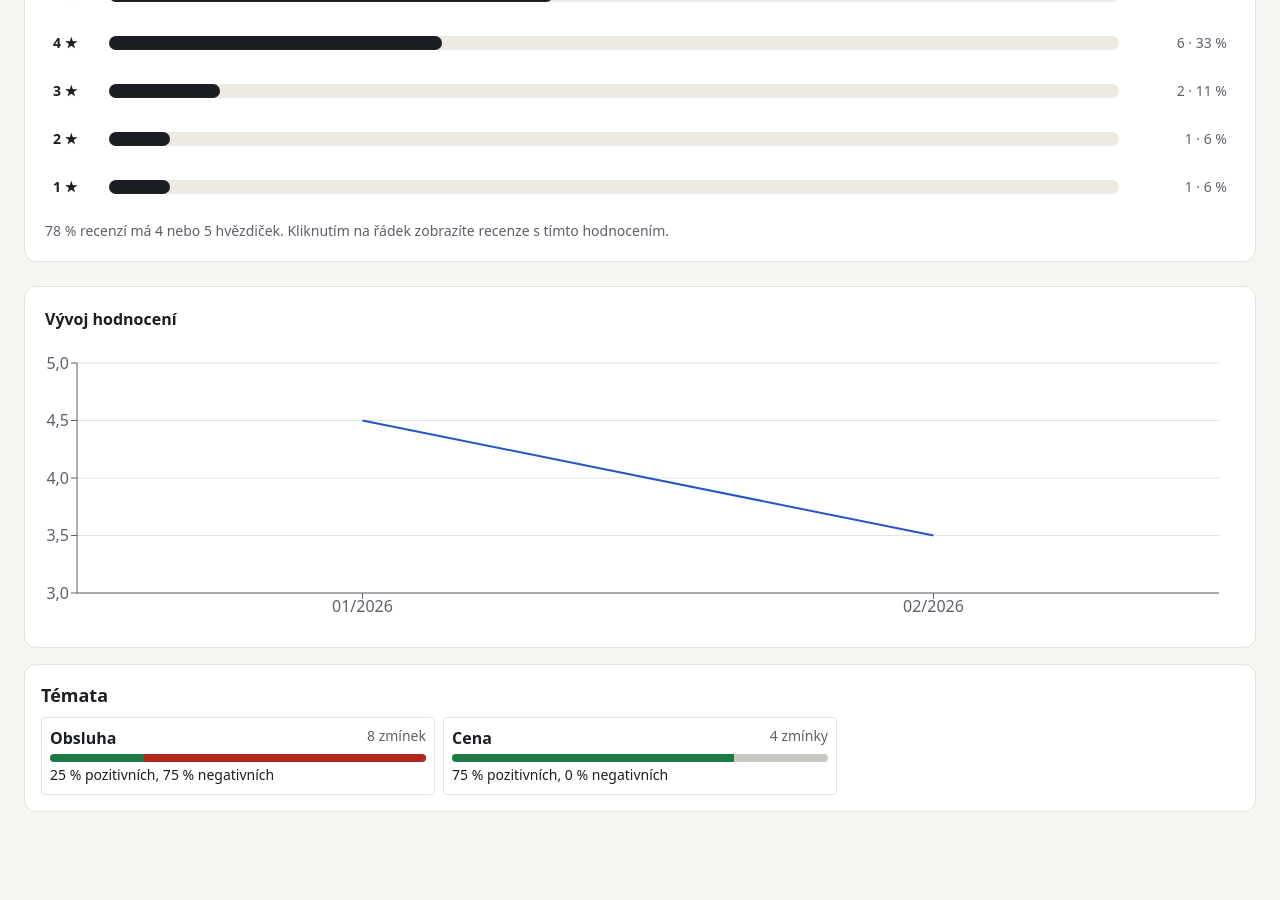
Scenario: Topics › says so when the Reviews cannot be loaded or there are none
(page scrolled)
Click the button "Obsluha 8 zmínek 25 % pozitivních, 75 % negativních": [238, 756] box [41, 717, 435, 795]
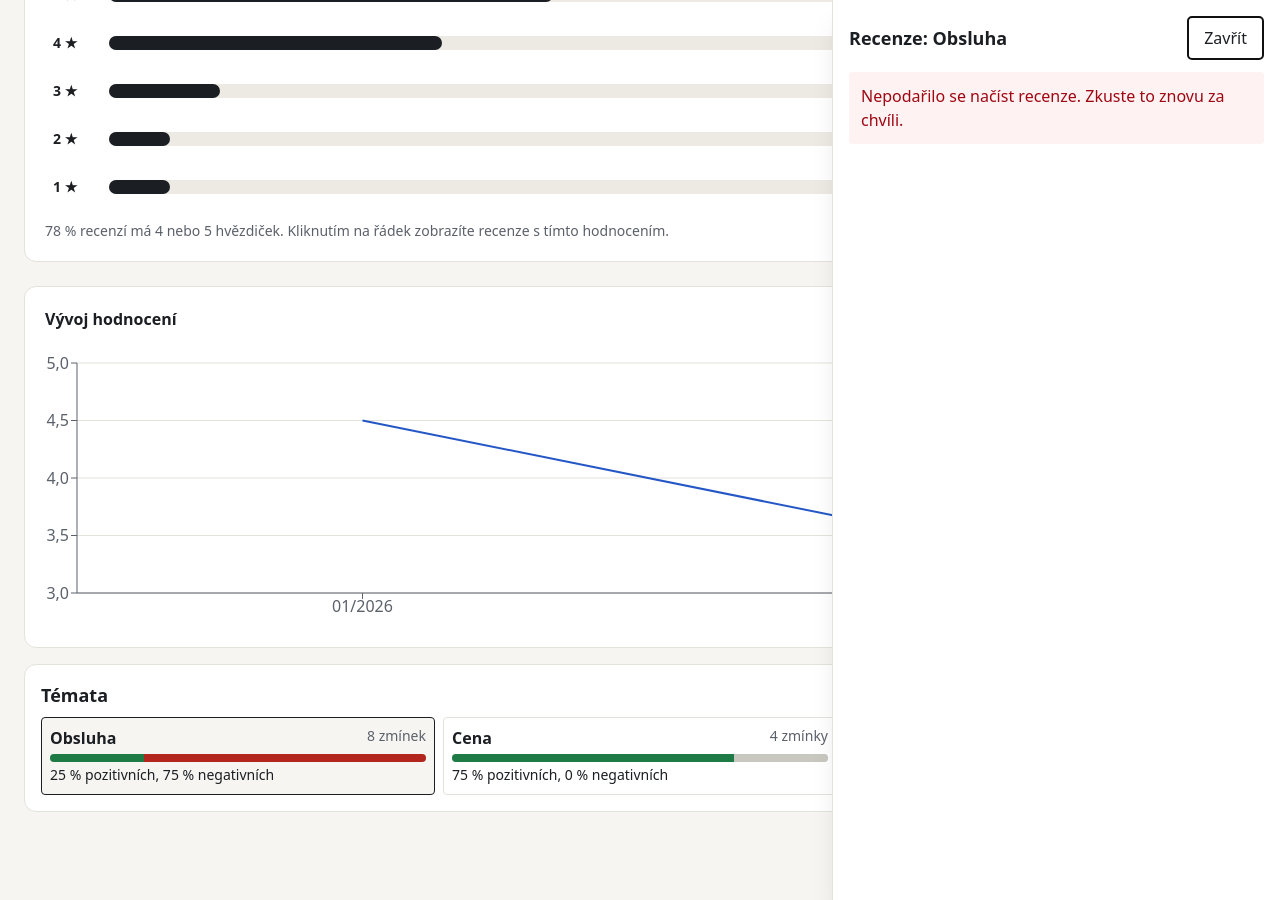
Check: the message "Nepodařilo se načíst recenze. Zkuste to znovu za chvíli." is shown, box [849, 72, 1264, 144]
Click the button "Zavřít": [1226, 38] box [1187, 16, 1264, 60]
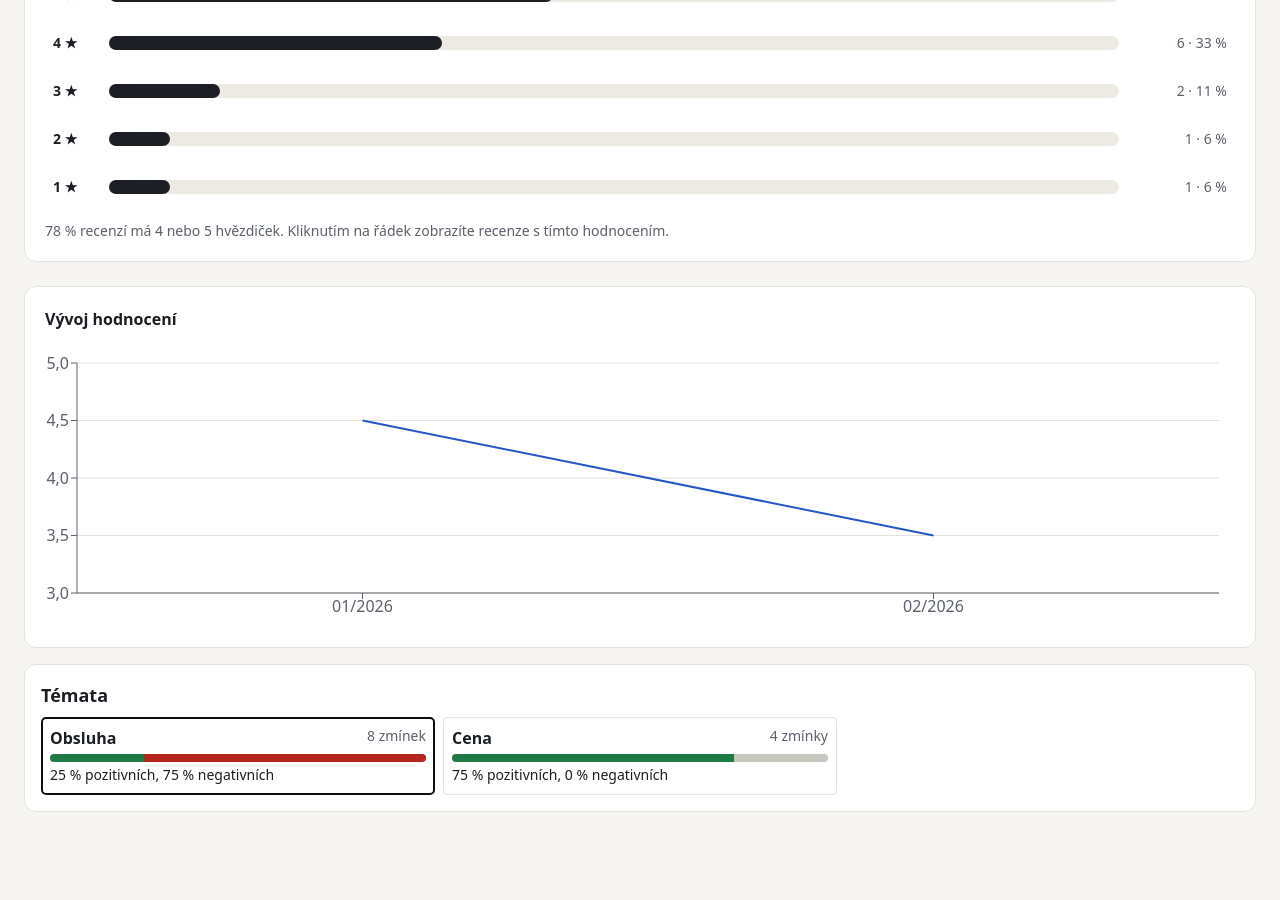
Click the button "Cena 4 zmínky 75 % pozitivních, 0 % negativních": [640, 756] box [443, 717, 837, 795]
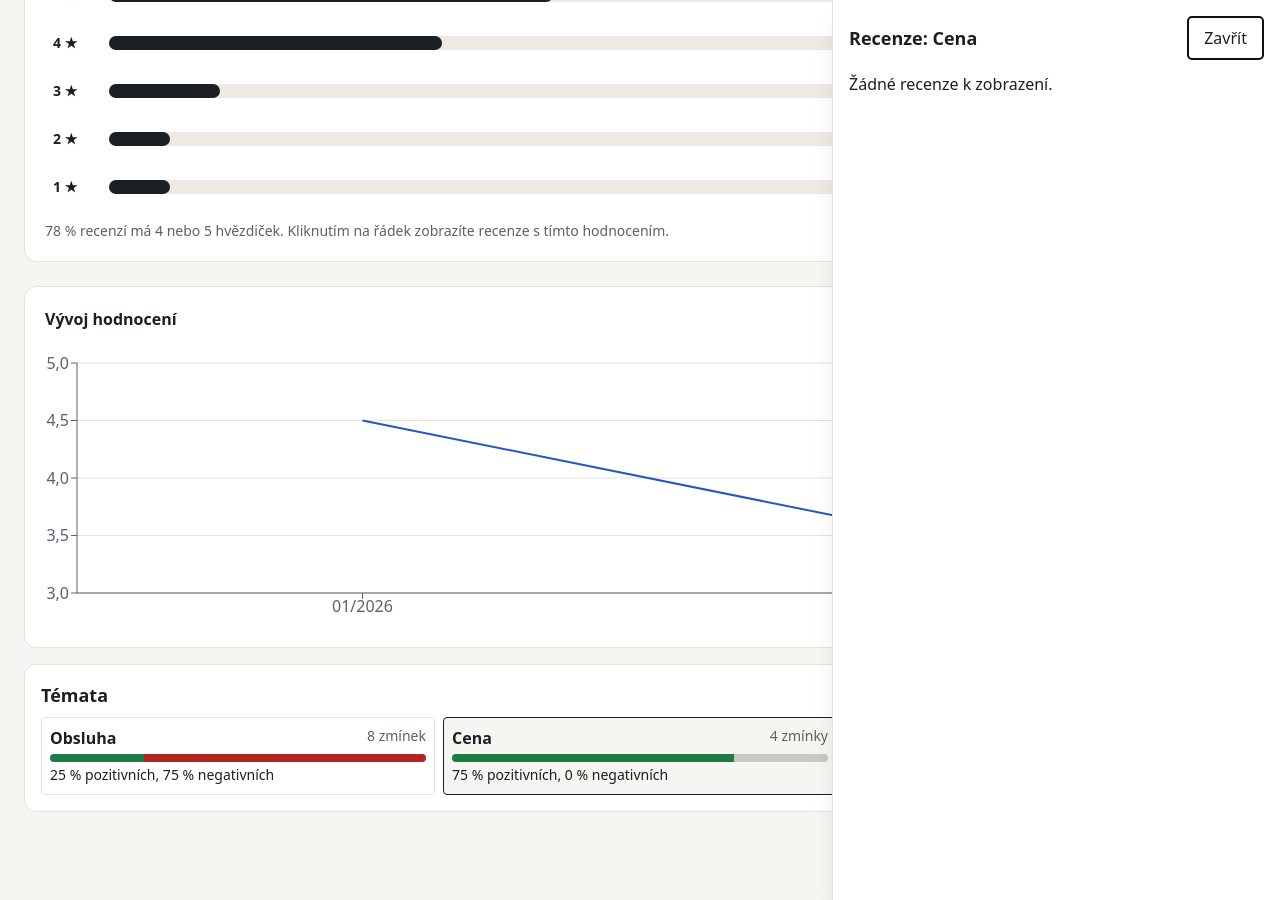
Check: the text "Žádné recenze k zobrazení." is shown, box [849, 73, 1052, 95]
